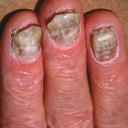Nail Fungal Infection: (46, 7, 80, 40), (89, 27, 122, 60), (11, 23, 39, 54)
